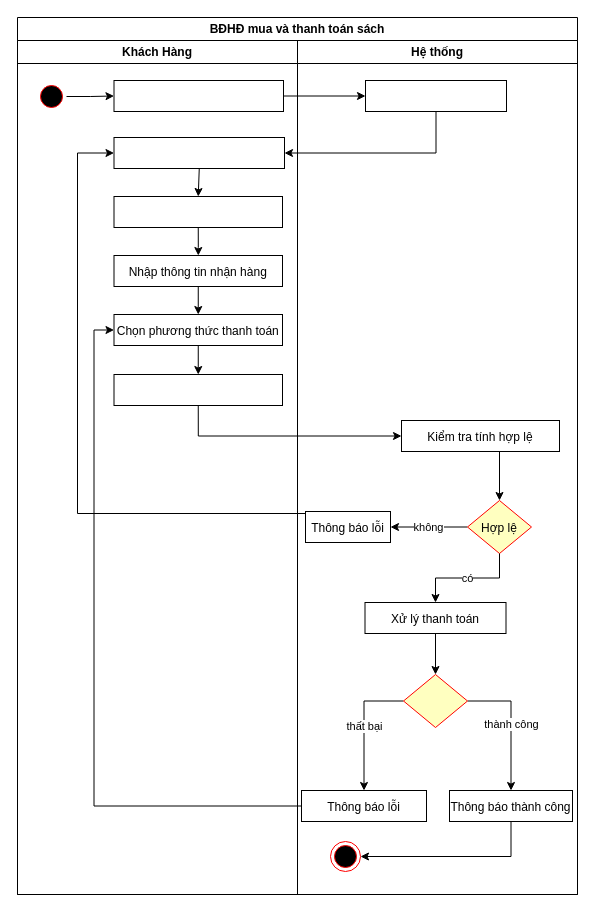
The diagram is 595 pixels wide and 912 high, and some of its shapes have lost their labels. Here are the shapes that lost their labels. From the top down, the box of each, then its label:
(113, 80, 284, 112): Thêm sản phẩm vào giở hàng
(364, 80, 506, 112): Cập nhật giỏ hàng
(113, 136, 284, 168): Xem giỏ hàng
(113, 196, 282, 228): Cập nhật số lượng sp
(113, 374, 282, 406): Xác nhận đặt hàng
(402, 674, 468, 728): Xử lý
